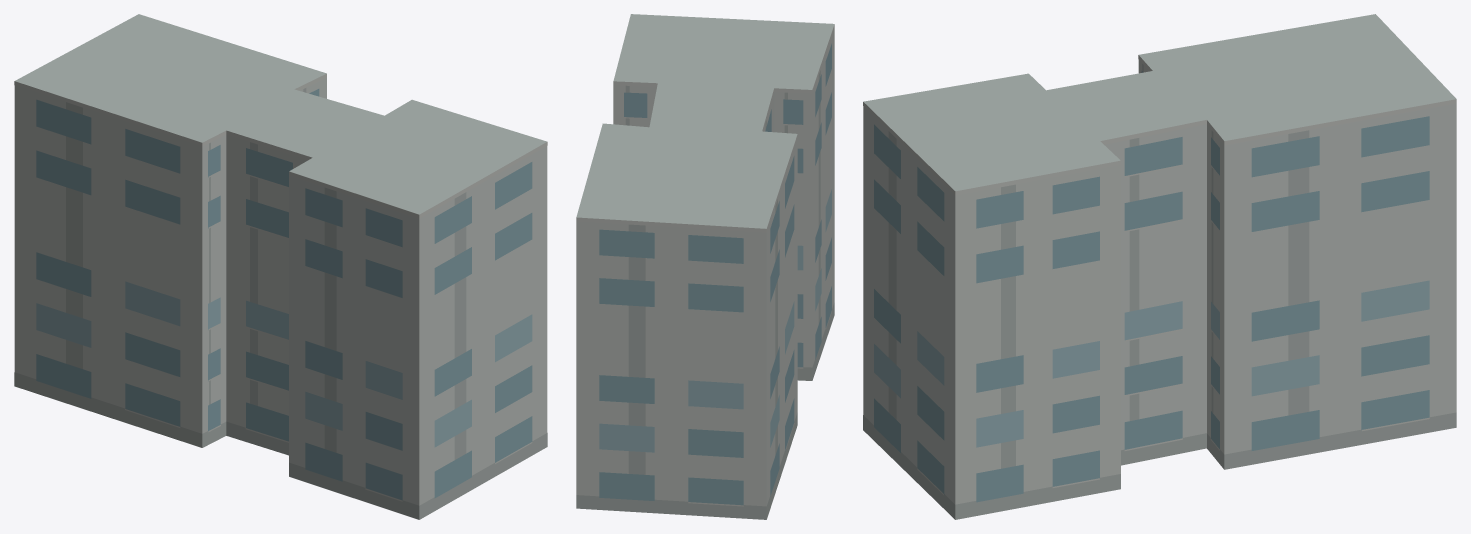
Rendered from survey-upis-32860447.glb.
3 views of the same model, side by side, from view 1: azimuth 30°, elevation 25°; view 2: azimuth 150°, elevation 25°; view 3: azimuth 270°, elevation 25° (orthographic). The views are drawn at different scales.
Visible parts, largest first — view 1: survey-upis-32860447.tmp; view 2: survey-upis-32860447.tmp; view 3: survey-upis-32860447.tmp.
Part boxes in pixels (left/top/right/bottom): survey-upis-32860447.tmp: left=14, top=14, right=547, bottom=519; survey-upis-32860447.tmp: left=576, top=14, right=834, bottom=519; survey-upis-32860447.tmp: left=863, top=14, right=1456, bottom=519.
Size of the model in its own units: 21.02 by 18.15 by 29.73.
